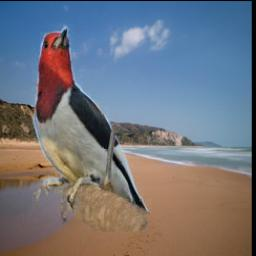Woodpecker: (27, 17, 153, 233)
